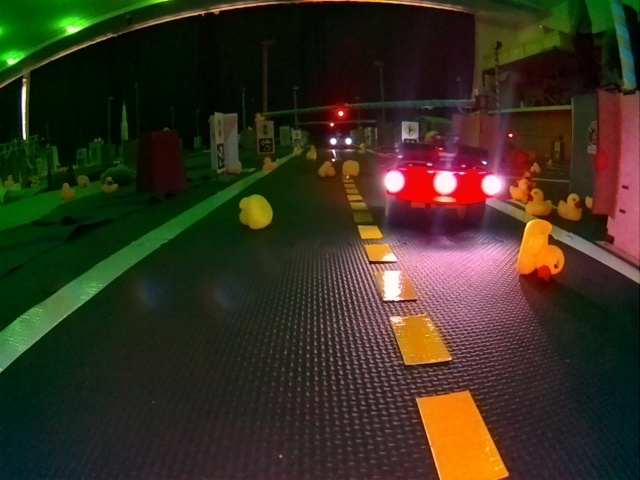Duckie: (517, 220, 564, 281), (238, 195, 272, 230), (526, 189, 552, 216), (558, 193, 581, 220), (510, 178, 531, 202), (341, 160, 358, 176), (318, 161, 334, 175), (102, 177, 116, 191), (530, 162, 541, 174), (262, 157, 272, 168), (307, 151, 316, 160), (294, 145, 301, 154)
Duckiebot: (377, 144, 505, 223)
Intersection sign: (402, 122, 418, 137)
QR code: (215, 143, 226, 171), (258, 138, 273, 152)
Traffic light: (335, 107, 346, 118), (327, 122, 337, 130)
